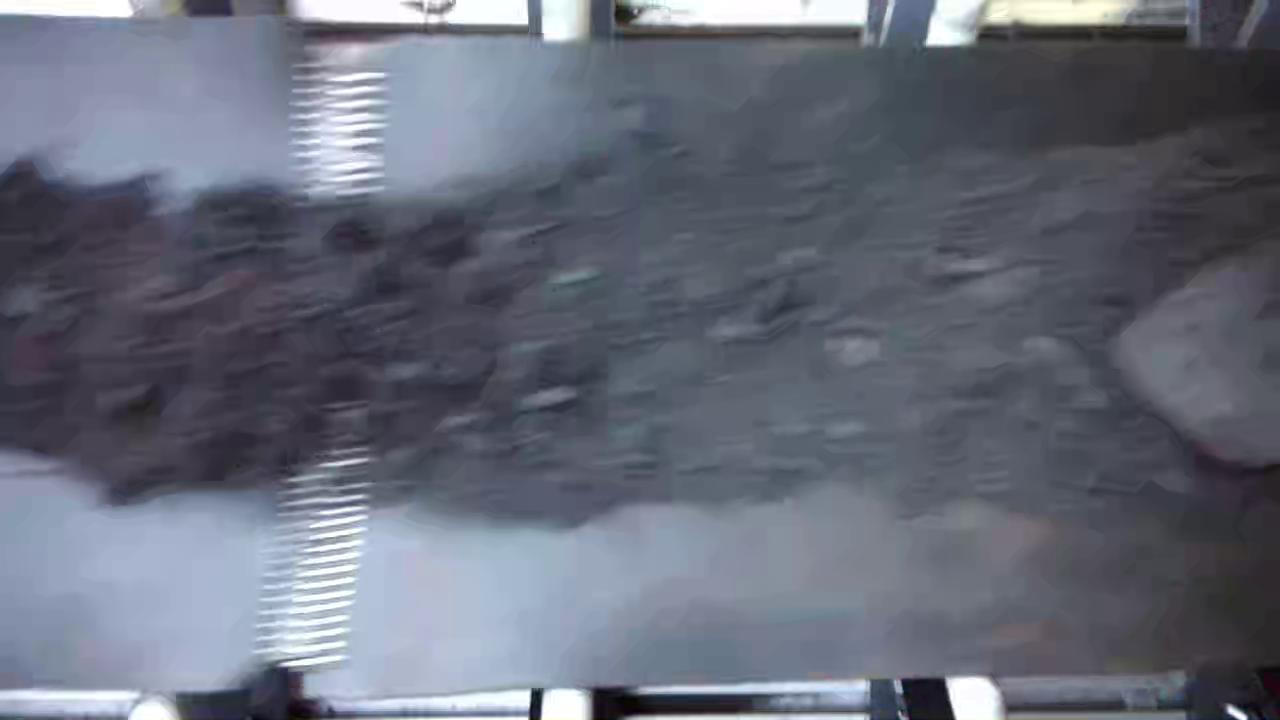conveyor: (3, 49, 1280, 674)
